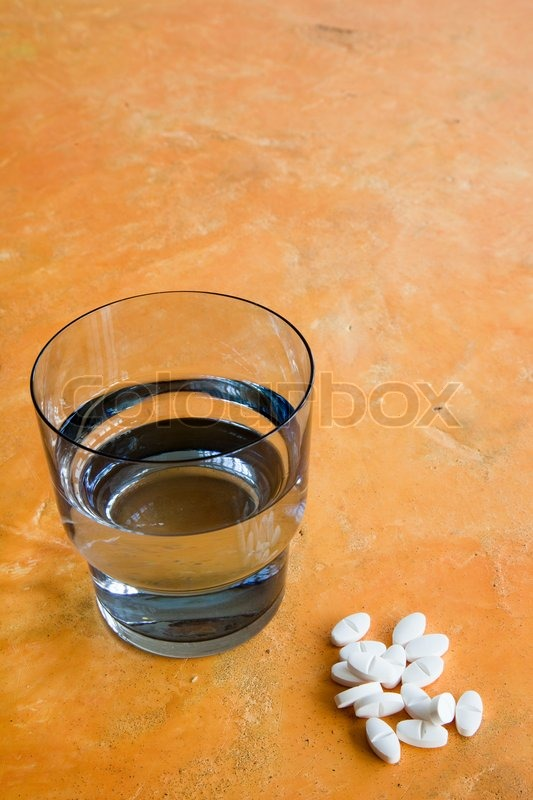glass of water: (32, 290, 312, 656)
